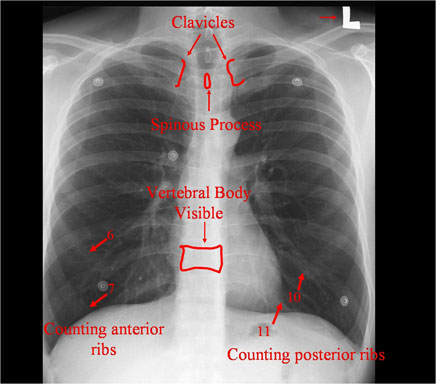telestration: (42, 320, 166, 356), (146, 183, 252, 219), (227, 346, 385, 365), (149, 117, 260, 133), (213, 31, 244, 86), (179, 240, 226, 276), (172, 33, 201, 89), (169, 13, 235, 33), (255, 302, 282, 338), (199, 68, 215, 113), (88, 230, 116, 251), (91, 282, 113, 308), (286, 272, 305, 302), (200, 220, 209, 240)
